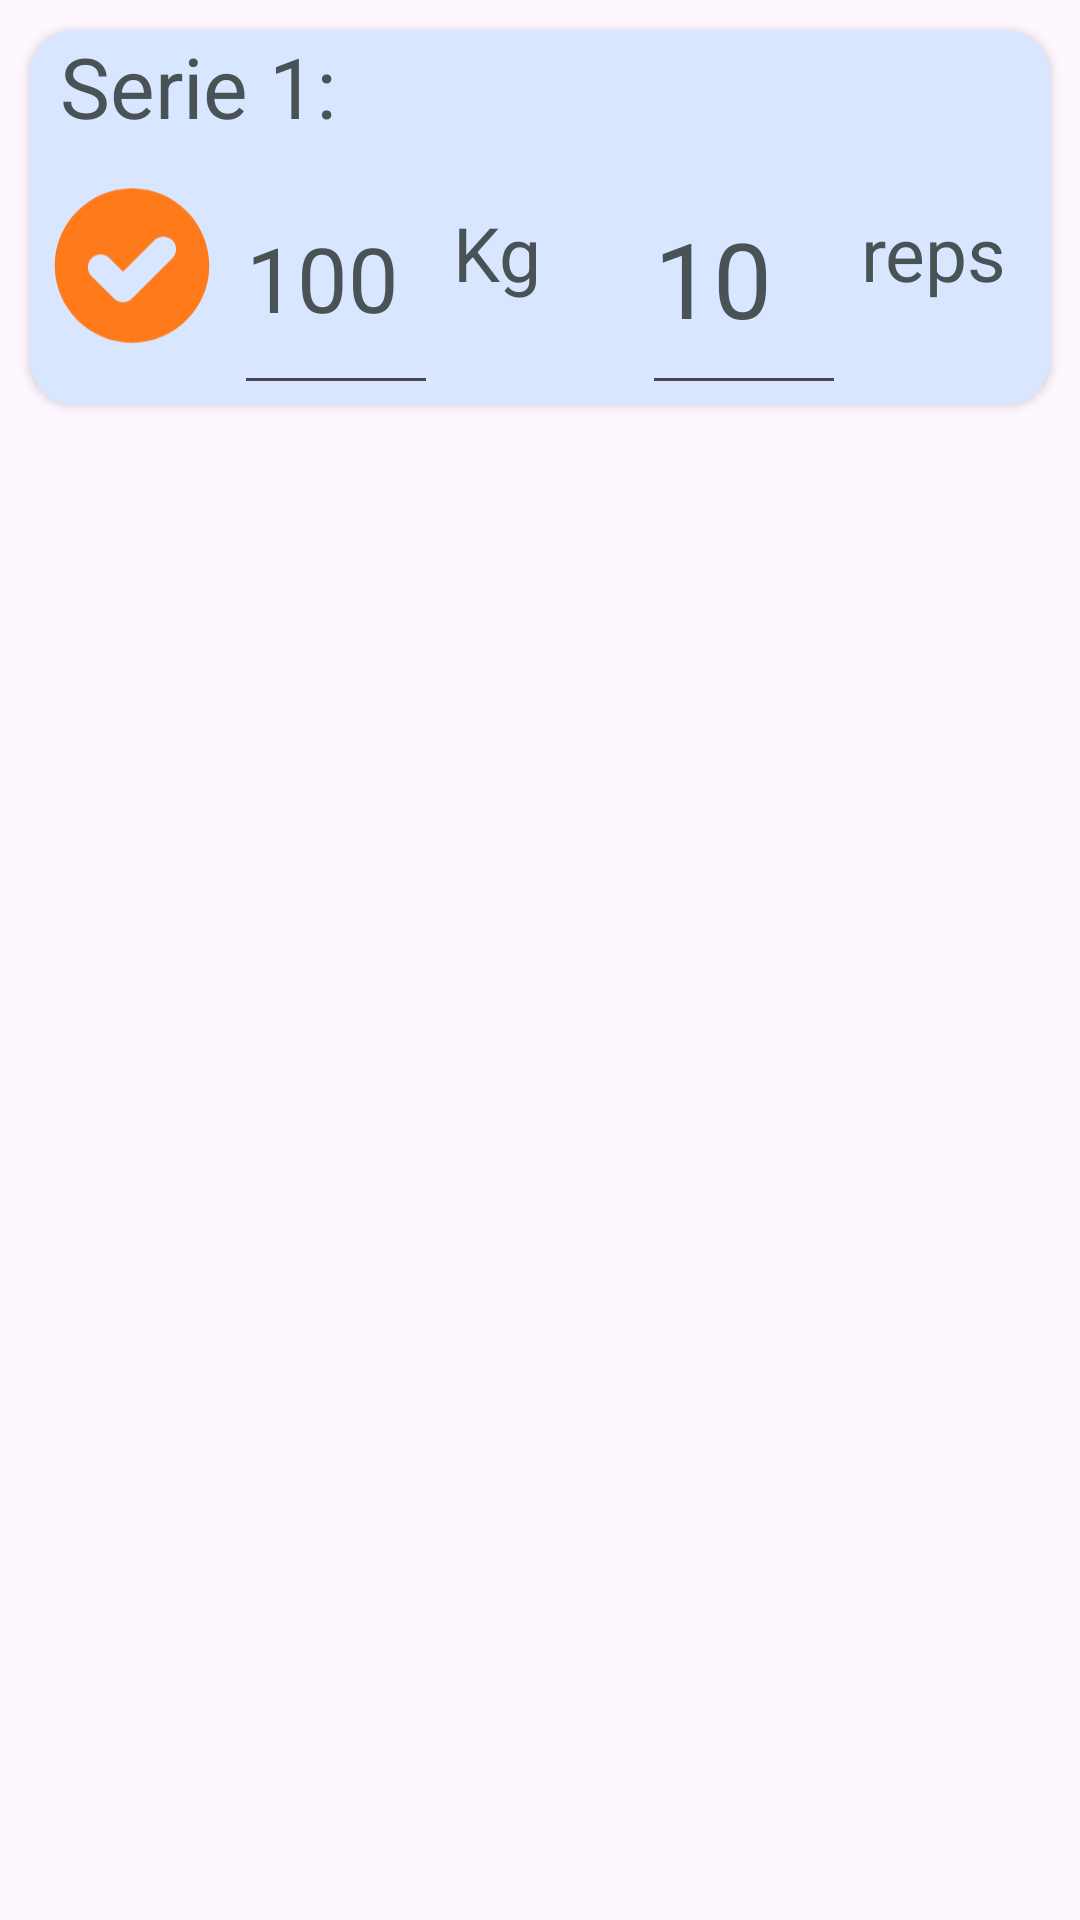

Screen size 1080 × 1920. Icon name, then its box in pixels as [x1=x1, y1=y1, x2=x2, y2=y2]:
listo: [x1=30, y1=188, x2=210, y2=405]
